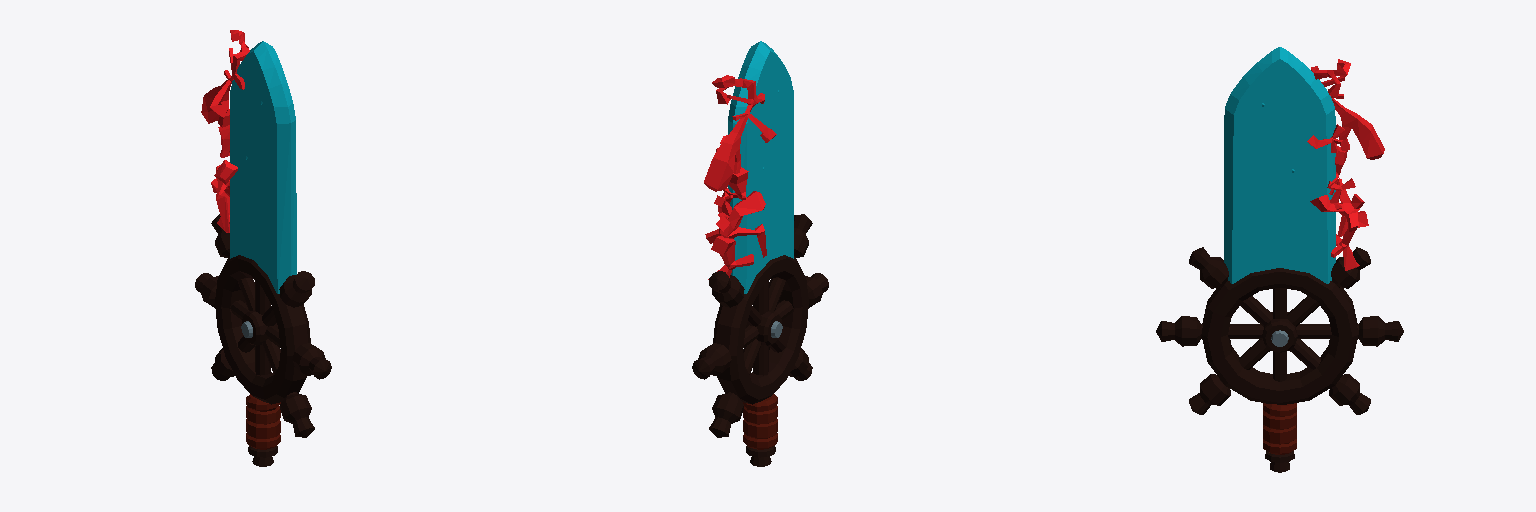
File: coral_sword.obj
The picture shows the model from 3 angles: view 1: azimuth 30°, elevation 25°; view 2: azimuth 150°, elevation 25°; view 3: azimuth 270°, elevation 25°; orthographic projection.
Parts seen in each view (by area): view 1: coral_sword_Cylinder.201; view 2: coral_sword_Cylinder.201; view 3: coral_sword_Cylinder.201.
Boxes of the visible parts, box(x1,y1,x2,y2) form: coral_sword_Cylinder.201: box(195, 30, 331, 466); coral_sword_Cylinder.201: box(692, 41, 828, 466); coral_sword_Cylinder.201: box(1156, 47, 1403, 472).
Bounding box in the file's own units: 0.2686 × 2 × 1.06.